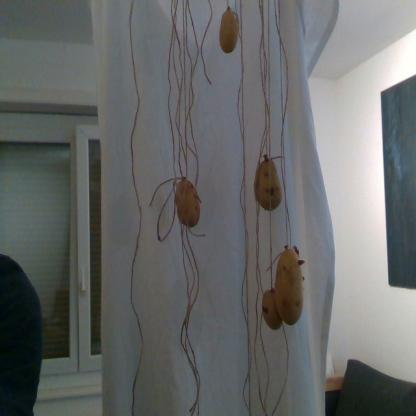potato: (275, 249, 306, 326), (255, 159, 284, 212), (176, 179, 202, 229), (263, 291, 287, 331), (221, 11, 240, 55)
